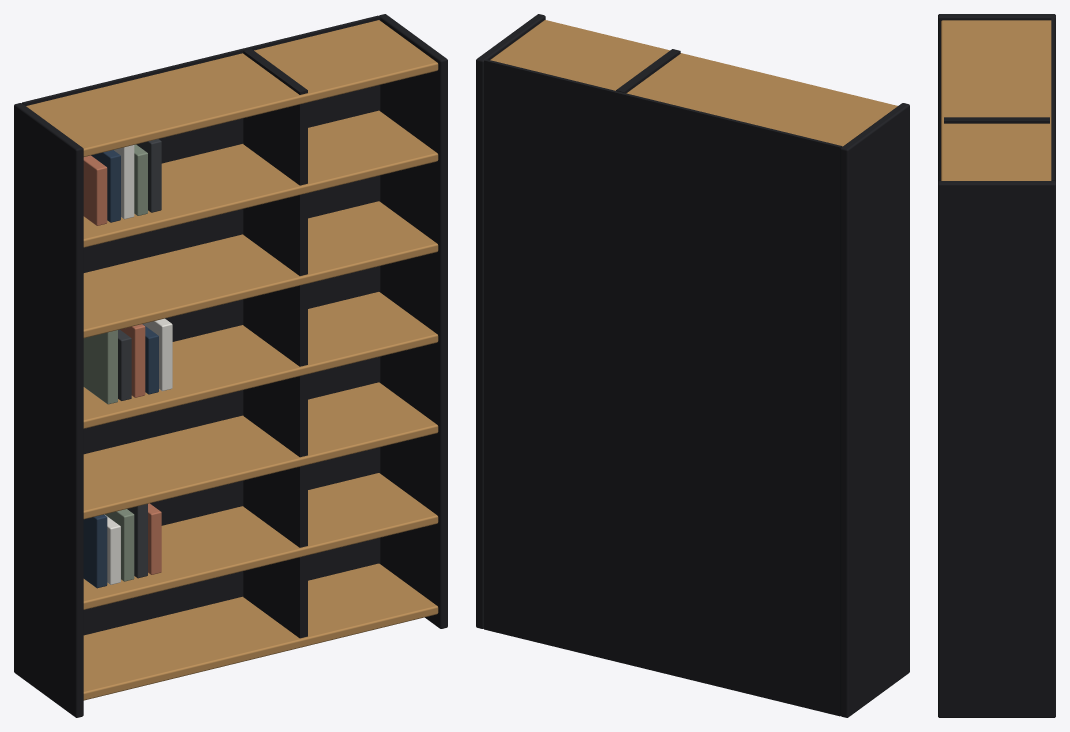
File: wooden_bookshelf_worn.gltf
The picture shows the model from 3 angles, left to right: view 1: azimuth 30°, elevation 25°; view 2: azimuth 150°, elevation 25°; view 3: azimuth 270°, elevation 25°; orthographic projection. The views are drawn at different scales.
Visible parts, largest first — view 1: wooden_bookshelf_worn; view 2: wooden_bookshelf_worn; view 3: wooden_bookshelf_worn.
Part boxes in pixels (<box>): wooden_bookshelf_worn: <box>14,14,447,717</box>; wooden_bookshelf_worn: <box>476,14,909,717</box>; wooden_bookshelf_worn: <box>938,14,1055,717</box>.
Size of the model in its own units: 1.37 by 2 by 0.4.
